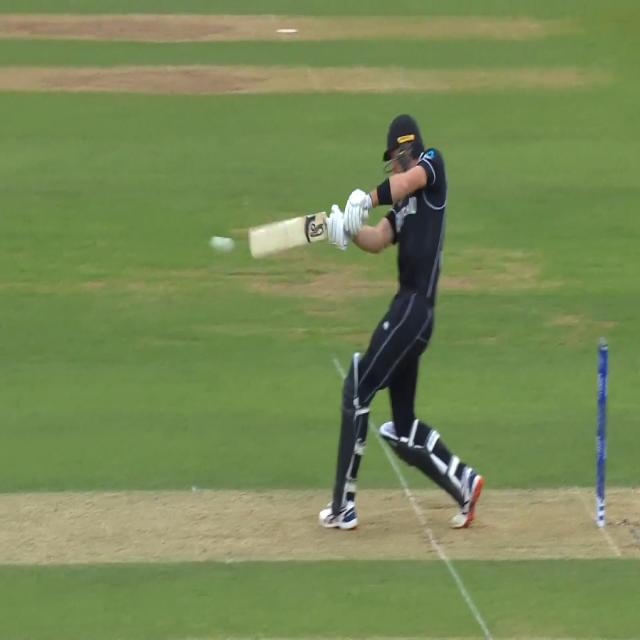ball: (211, 227, 237, 267)
